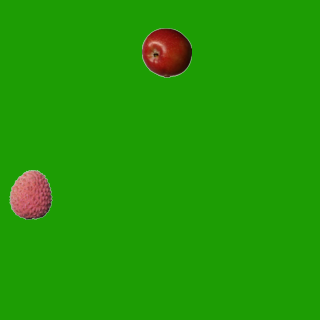Apple Braeburn: (141, 27, 191, 77)
Lychee: (5, 169, 55, 219)
